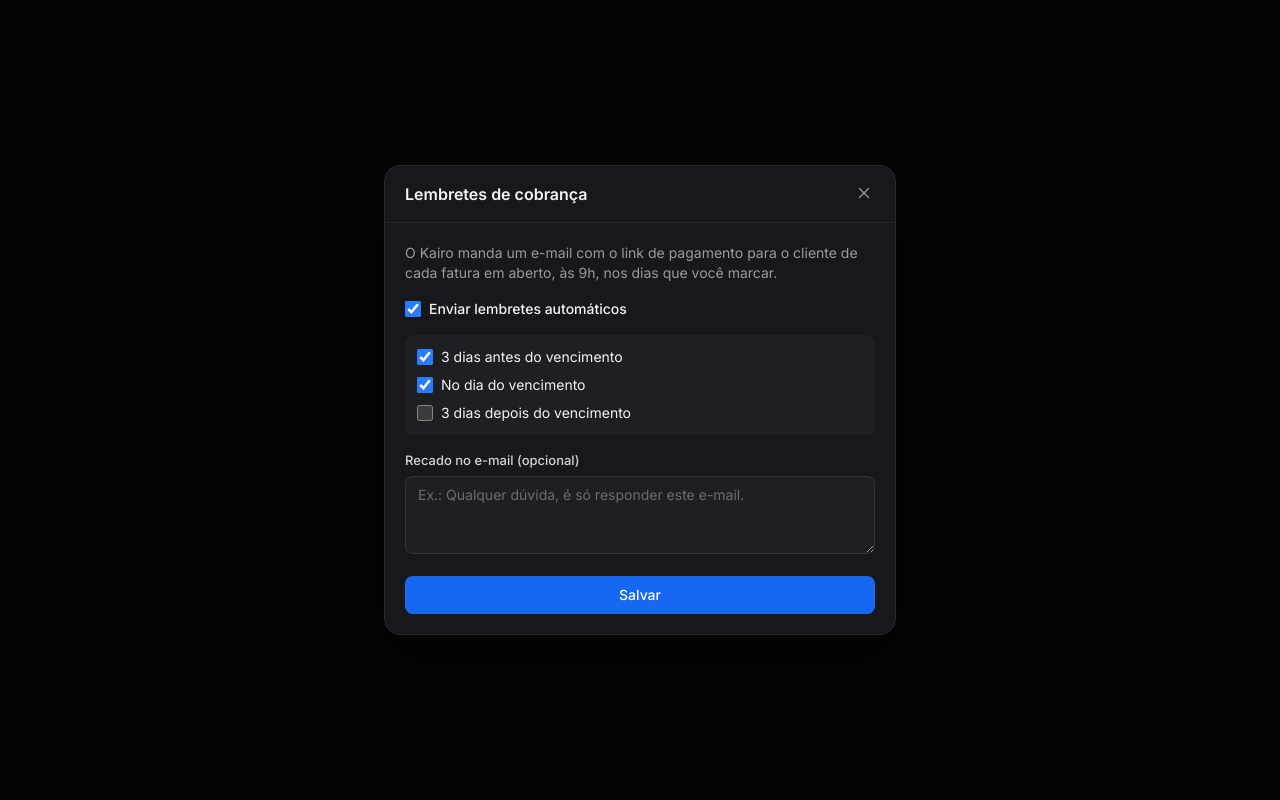
it: BillingSettingsModal › marca as etapas salvas e envia a escolha nova
Click the checkbox labelled "3 dias antes do vencimento": (425, 357) [417,349,433,365]
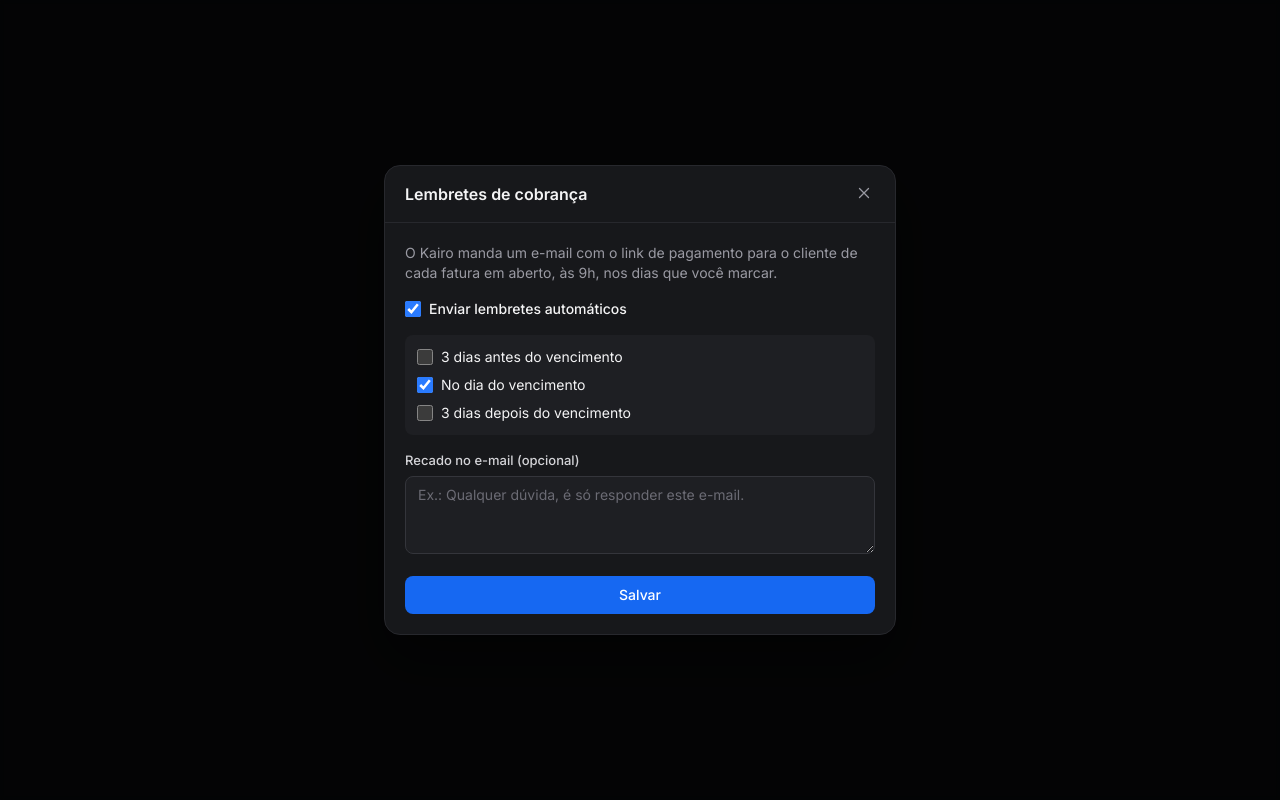
Click the checkbox labelled "3 dias depois do vencimento": (425, 413) [417,405,433,421]
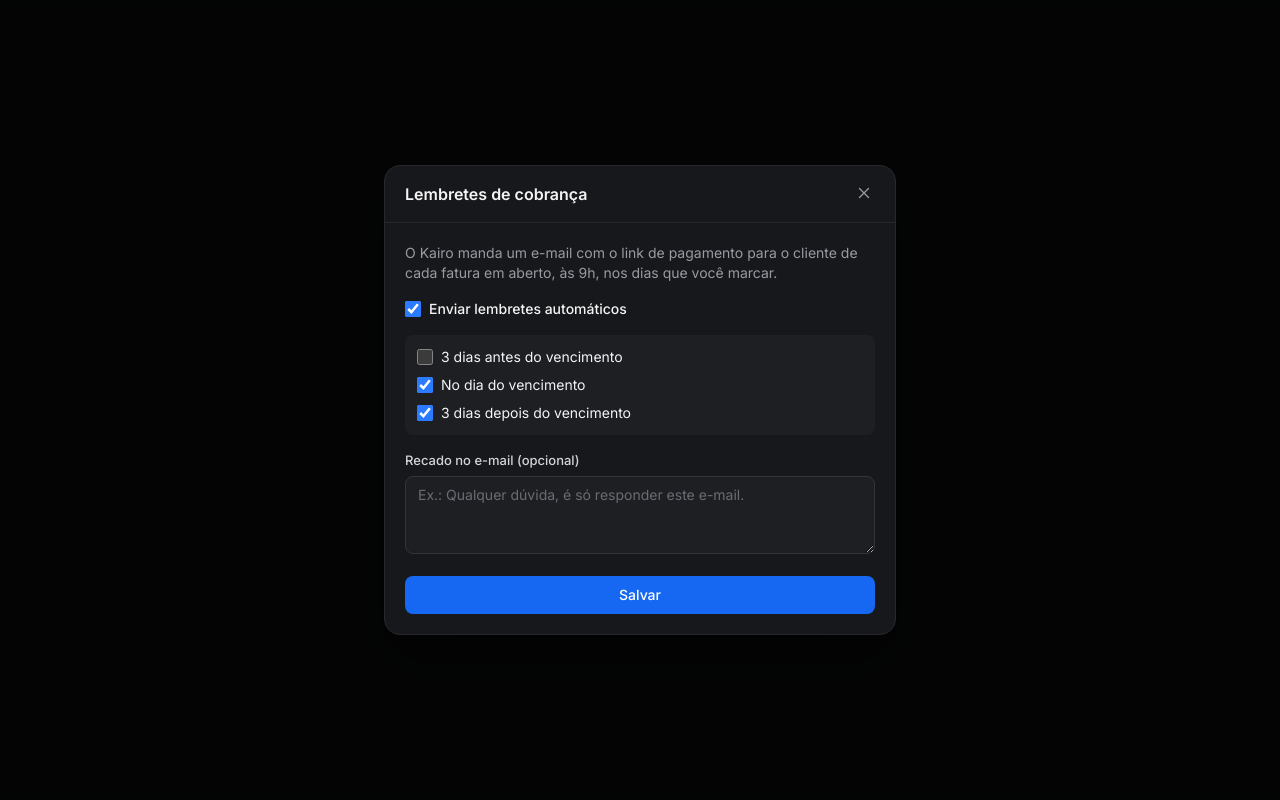
In the text box with id "reminder-message": (640, 515) [405,476,875,554], type "  Pix com desconto.  "
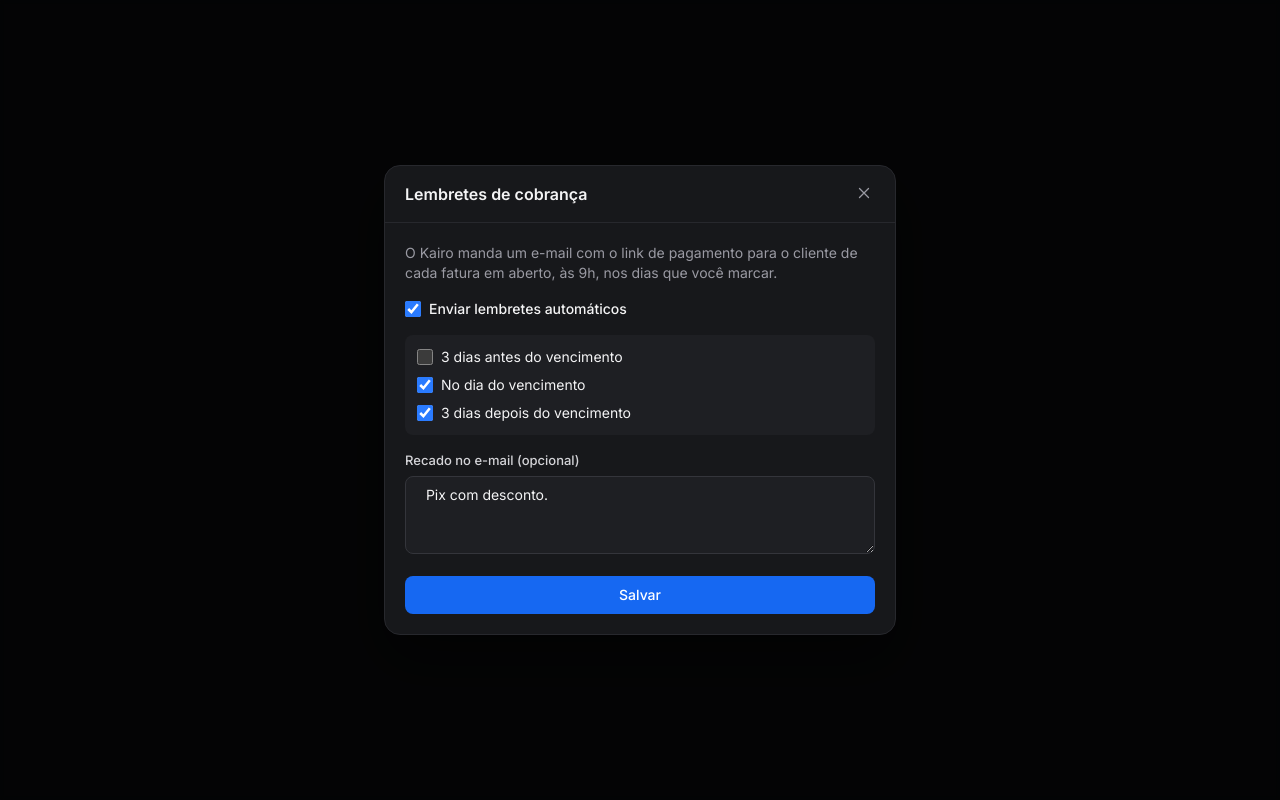
Submit the form, box [405,243,875,614]
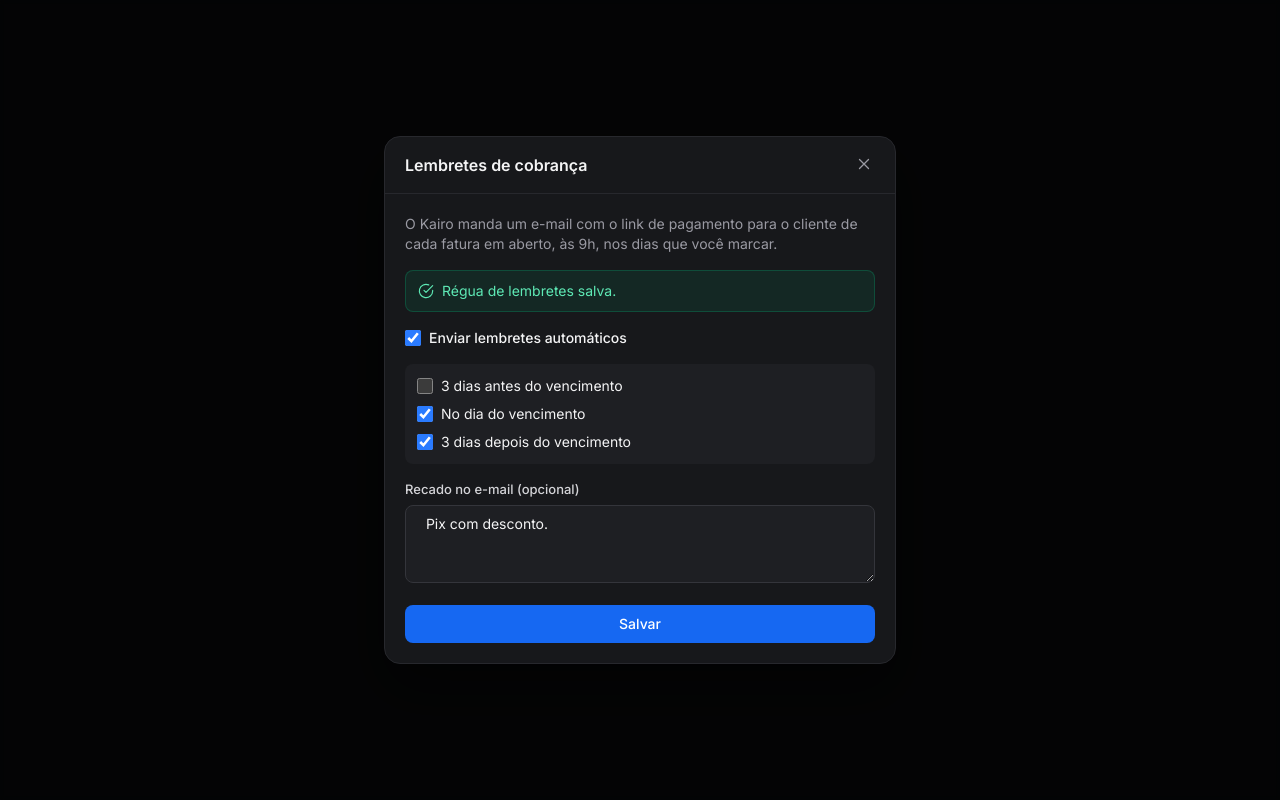
Expected: the text "Régua de lembretes salva." is shown, [442,281,616,301]
